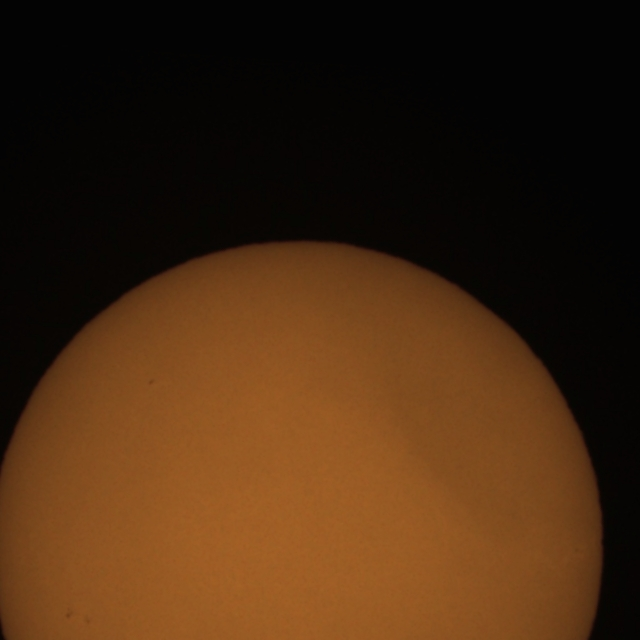sunspot: (64, 608, 92, 626), (64, 608, 75, 620), (147, 378, 155, 387)
